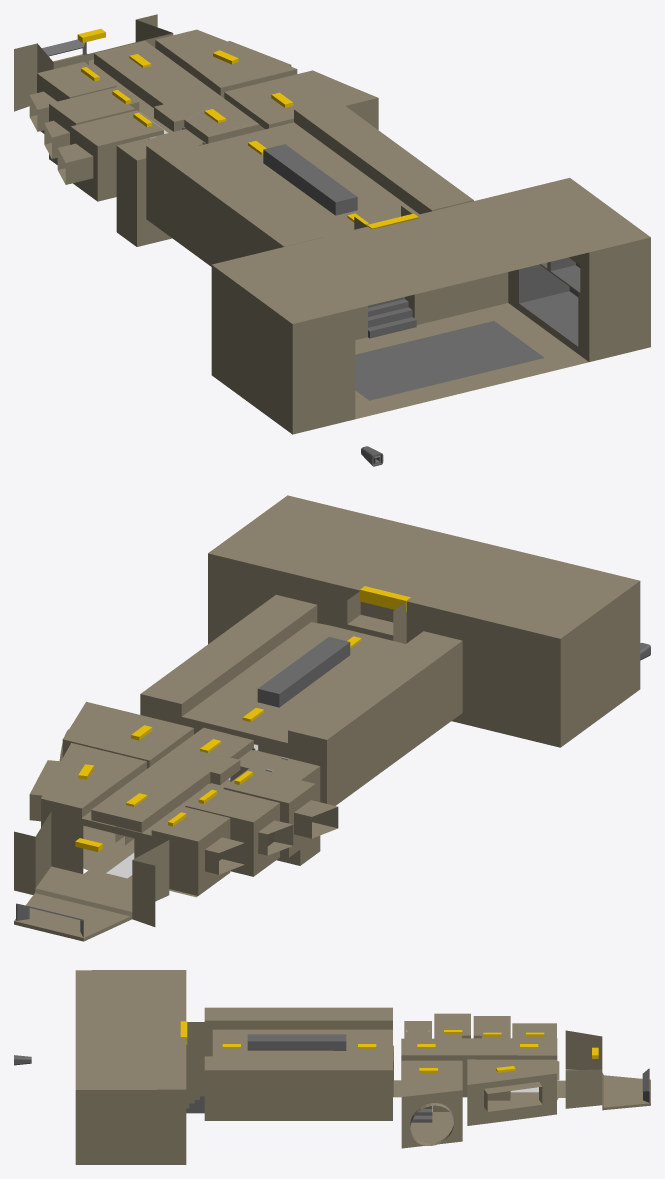
The model's file is JoinedInterior.glb.
3 views of the same model, one above another, from view 1: azimuth 30°, elevation 25°; view 2: azimuth 150°, elevation 25°; view 3: azimuth 270°, elevation 25° (orthographic). The views are drawn at different scales.
Visible parts, largest first — view 1: Engineering; view 2: Engineering; view 3: Engineering.
Boxes of the visible parts, x1=… form: Engineering: x1=14, y1=14, x2=650, y2=466; Engineering: x1=14, y1=495, x2=650, y2=941; Engineering: x1=14, y1=970, x2=650, y2=1164.
Bounding box in the file's own units: 15.32 × 4.94 × 34.55.
